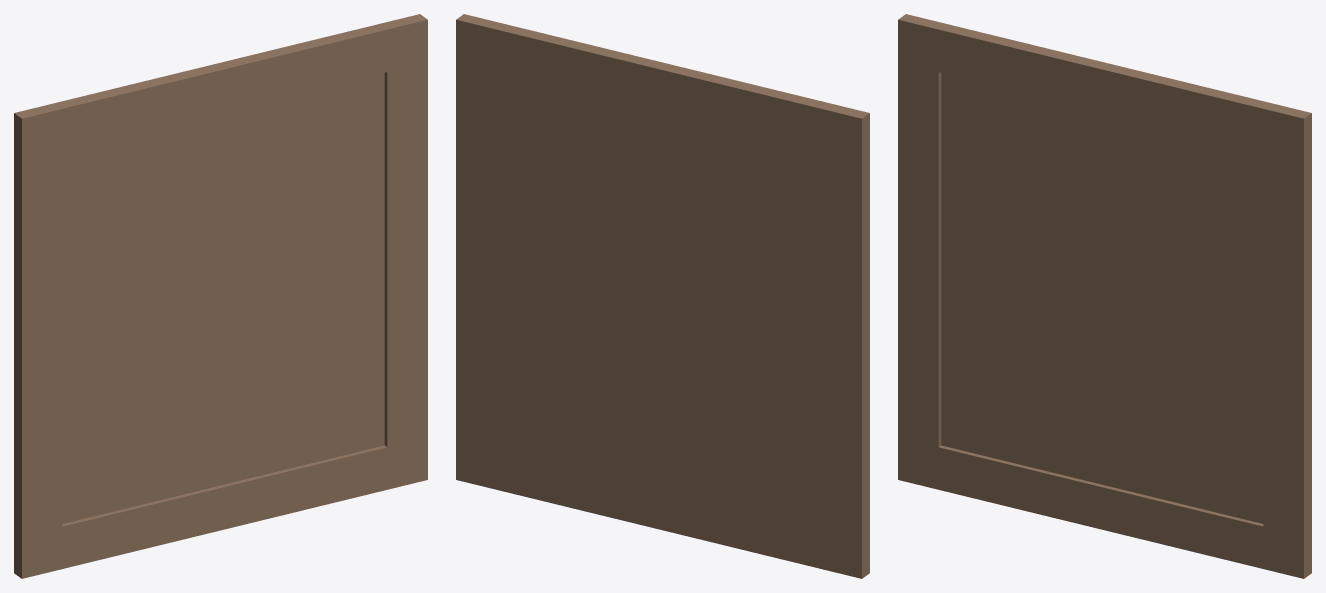
File: door_01.obj
3 renders of one model, left to right at view 1: azimuth 30°, elevation 25°; view 2: azimuth 150°, elevation 25°; view 3: azimuth 330°, elevation 25°, orthographic.
Parts seen in each view (by area): view 1: door_01; view 2: door_01; view 3: door_01.
Boxes of the visible parts, left/top/right/bottom form: door_01: left=14, top=14, right=427, bottom=578; door_01: left=456, top=14, right=869, bottom=578; door_01: left=898, top=14, right=1311, bottom=578.
Bounding box in the file's own units: 572 × 619 × 19.05.
